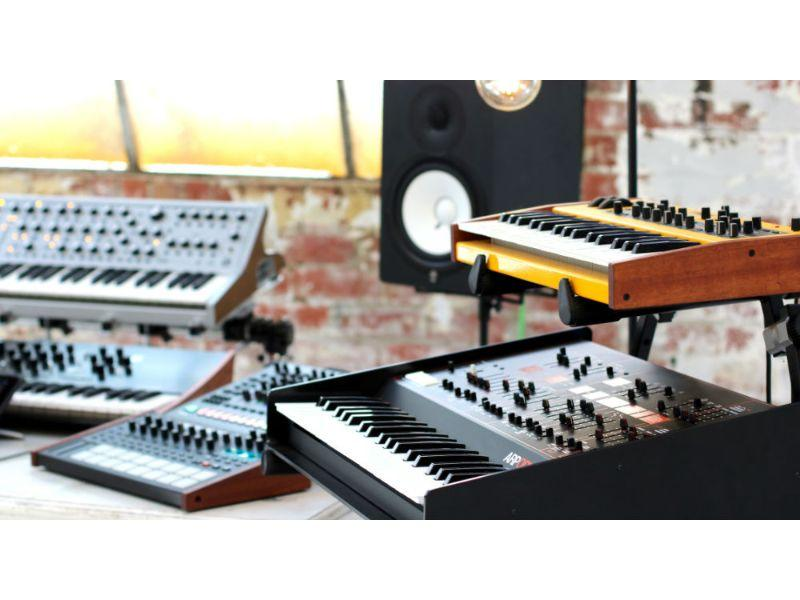synthesizer: (273, 323, 785, 505), (438, 175, 781, 304), (3, 188, 264, 310), (12, 337, 219, 398)
